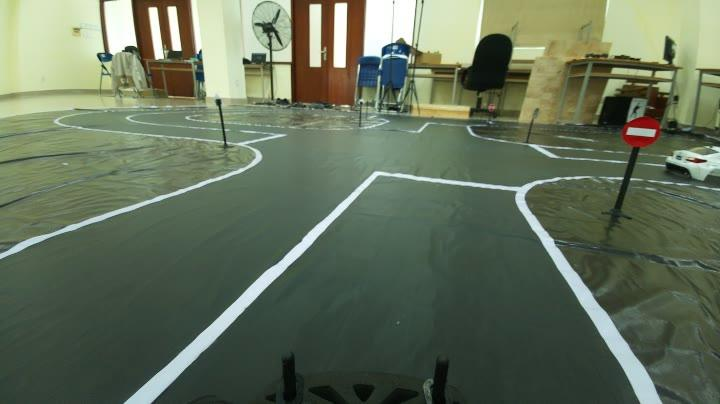no_entry: (622, 107, 660, 155)
